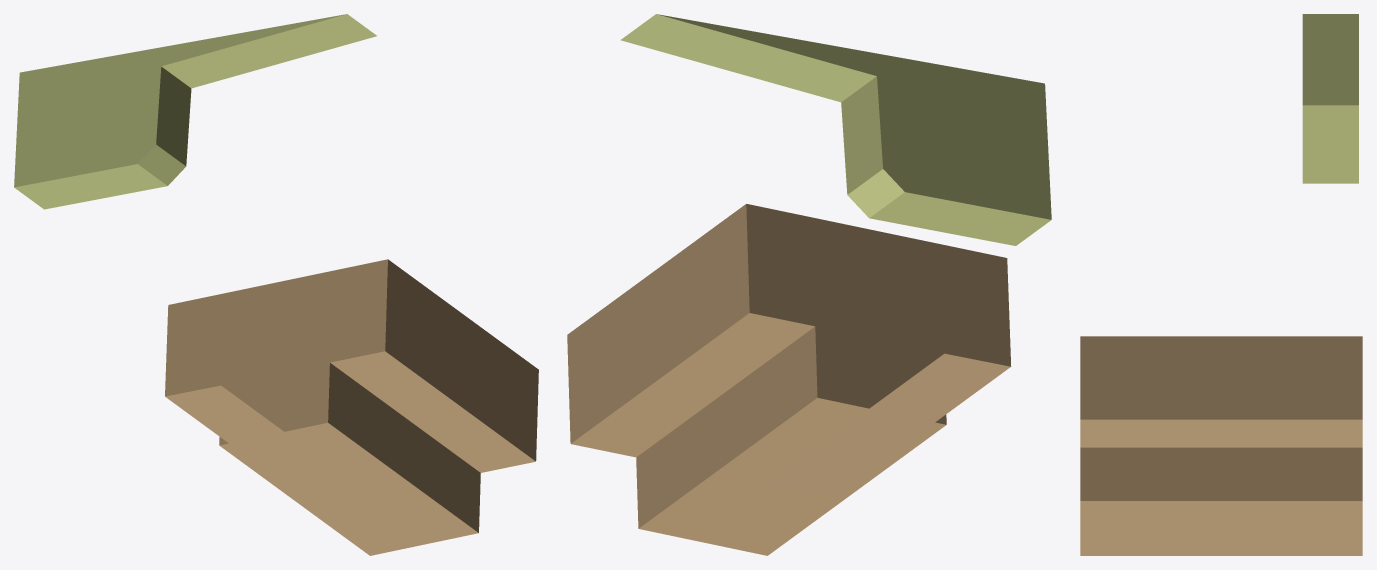
3 views of the same model, side by side, from view 1: azimuth 30°, elevation 25°; view 2: azimuth 150°, elevation 25°; view 3: azimuth 270°, elevation 25° (orthographic). The views are drawn at different scales.
Visible parts, largest first — view 1: 0_3_2_0_1_0_3_1_1; view 2: 0_3_2_0_1_0_3_1_1; view 3: 0_3_2_0_1_0_3_1_1.
Part boxes in pixels (bbox=[...]): 0_3_2_0_1_0_3_1_1: bbox=[14, 14, 538, 555]; 0_3_2_0_1_0_3_1_1: bbox=[567, 14, 1051, 555]; 0_3_2_0_1_0_3_1_1: bbox=[1080, 14, 1362, 555].
Size of the model in its own units: 43.16 by 46.87 by 30.
